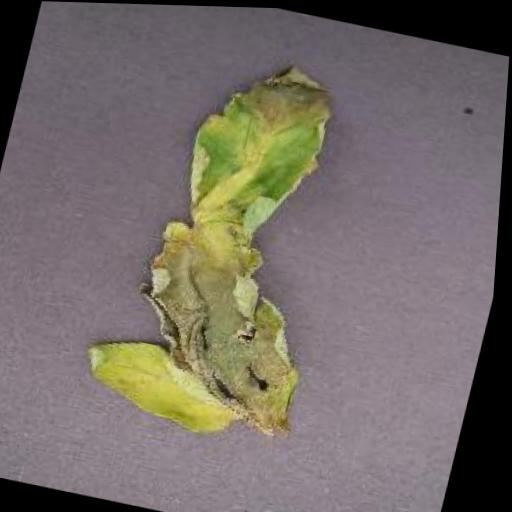Late Blight: (78, 31, 376, 446)
